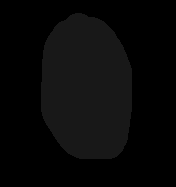fp: (39, 13, 134, 163)
